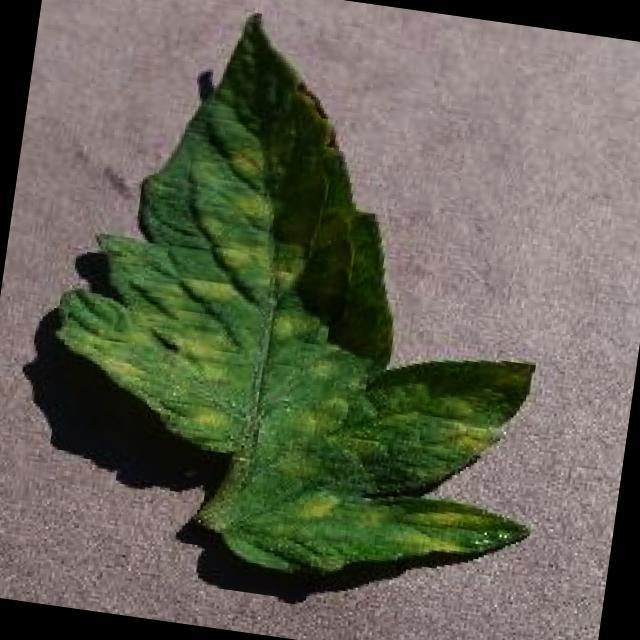Tomato mold leaf: (33, 0, 599, 604)
